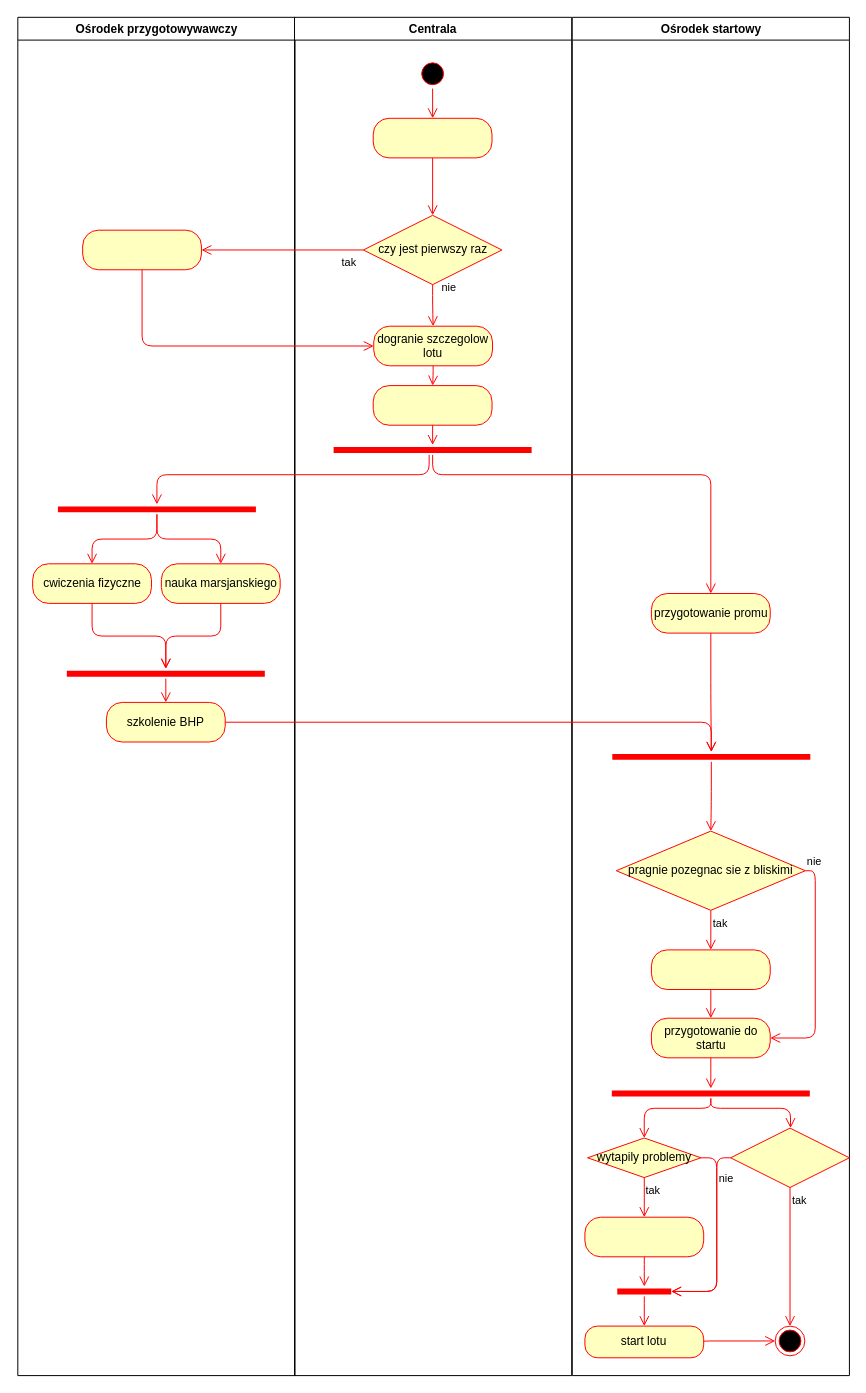
The diagram is 866 pixels wide and 1393 high, and some of its shapes have lost their labels. The shapes that lost their labels are listed below. From the top down, each one's centre as x and y in pixels, then its label:
At point 432,137: "przedstawienie gwarancji finansowej".
At point 141,249: "badania lekarskie".
At point 432,405: "podpisanie umowy".
At point 710,969: "pozegnanie z bliskimi".
At point 789,1157: "klient zrezygnowal".
At point 644,1236: "opoznienie".
